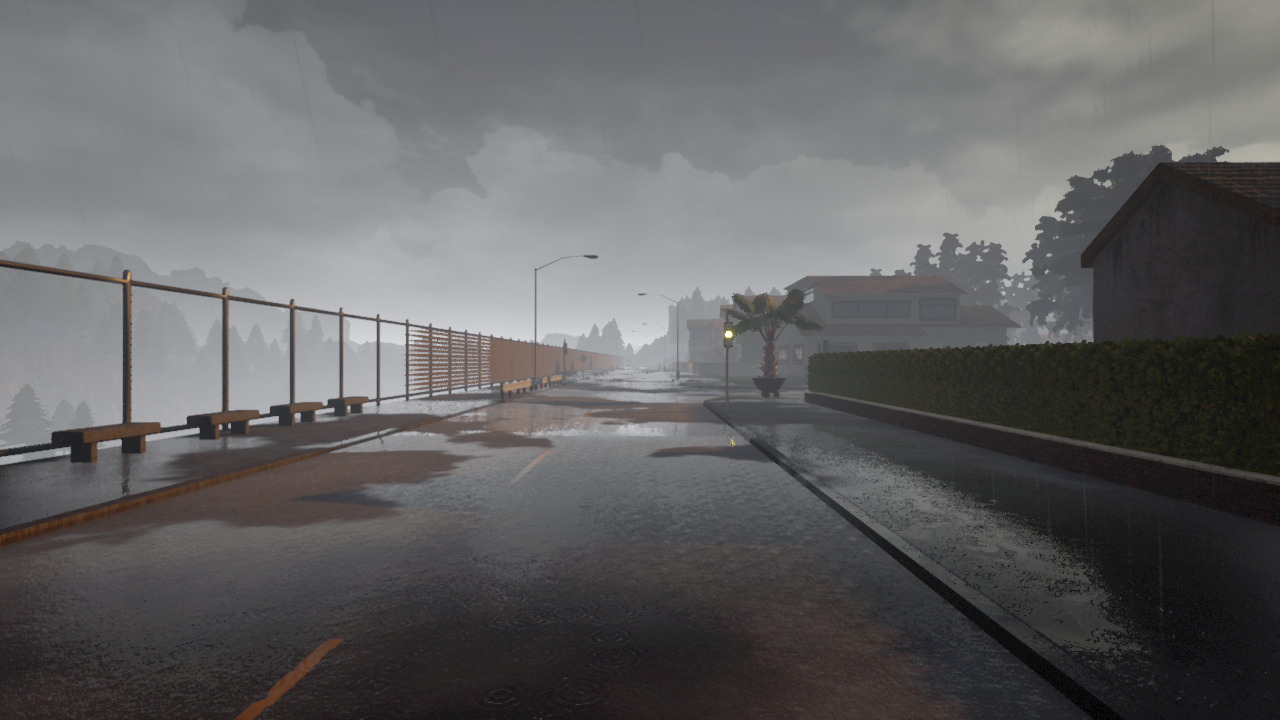yellow: (722, 321, 735, 349)
